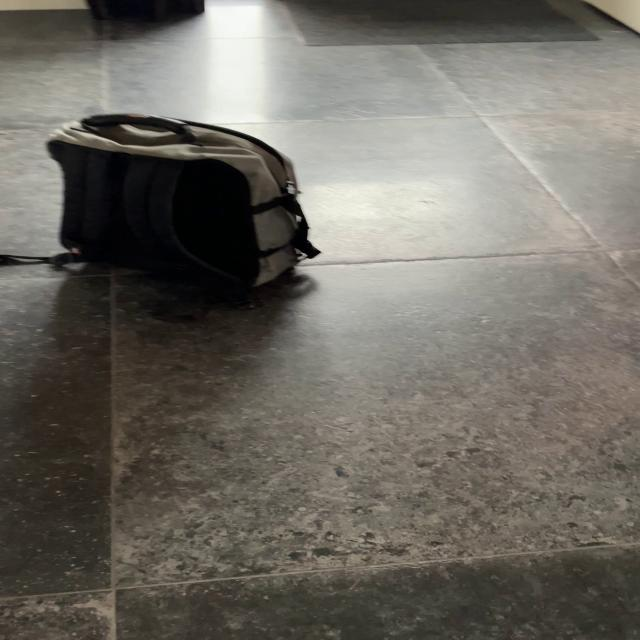backpack: (40, 104, 327, 310)
